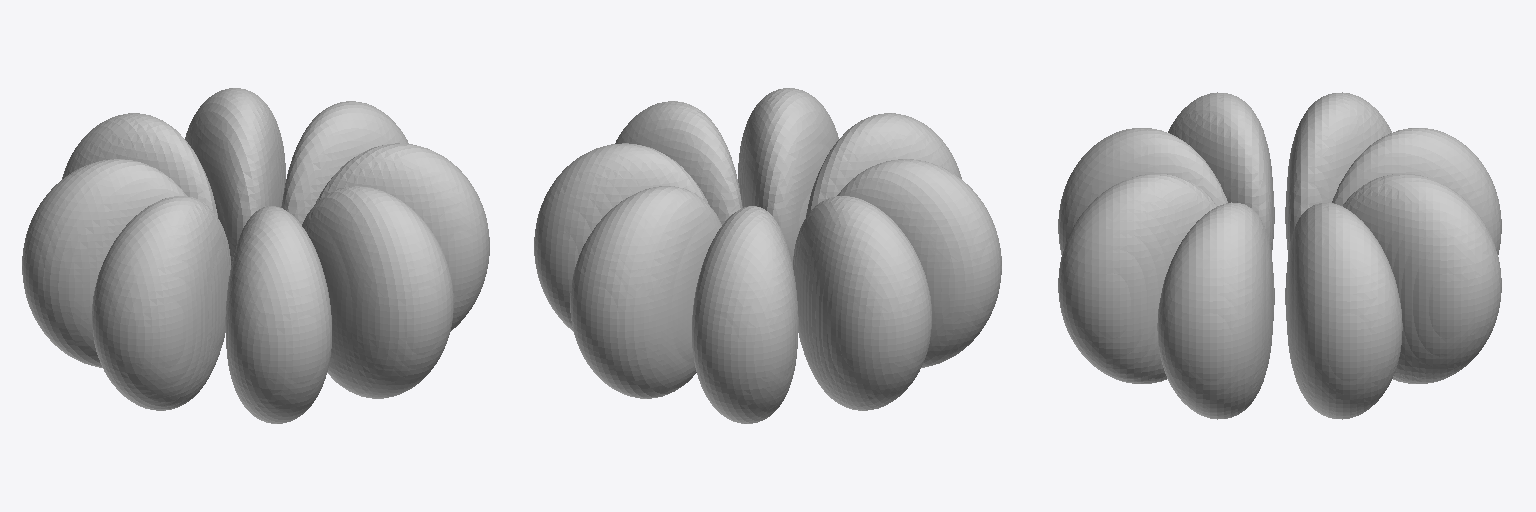
Rendered from orb_n=5_ l=4 _m=-4.obj.
3 views of the same model, side by side, from view 1: azimuth 30°, elevation 25°; view 2: azimuth 150°, elevation 25°; view 3: azimuth 270°, elevation 25° (orthographic).
Visible parts, largest first — view 1: orb_n=5__l=4__m=-4; view 2: orb_n=5__l=4__m=-4; view 3: orb_n=5__l=4__m=-4.
Boxes of the visible parts, x1=… form: orb_n=5__l=4__m=-4: x1=22, y1=88, x2=489, y2=423; orb_n=5__l=4__m=-4: x1=534, y1=88, x2=1001, y2=423; orb_n=5__l=4__m=-4: x1=1058, y1=92, x2=1501, y2=419.
Size of the model in its own units: 93.34 by 47.34 by 93.34.